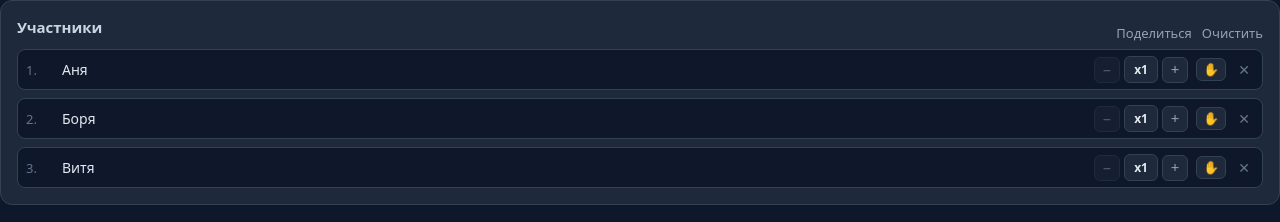
Scenario: ParticipantList — шаринг › честно сообщает, что скопировать не вышло
Click the button "Поделиться" at (1154, 33), box [1116,24,1192,42]
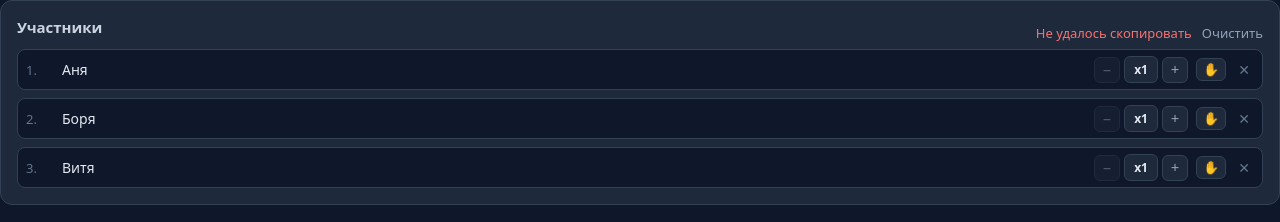
Result: the button "Не удалось скопировать" is shown at [1036,24,1192,42]
